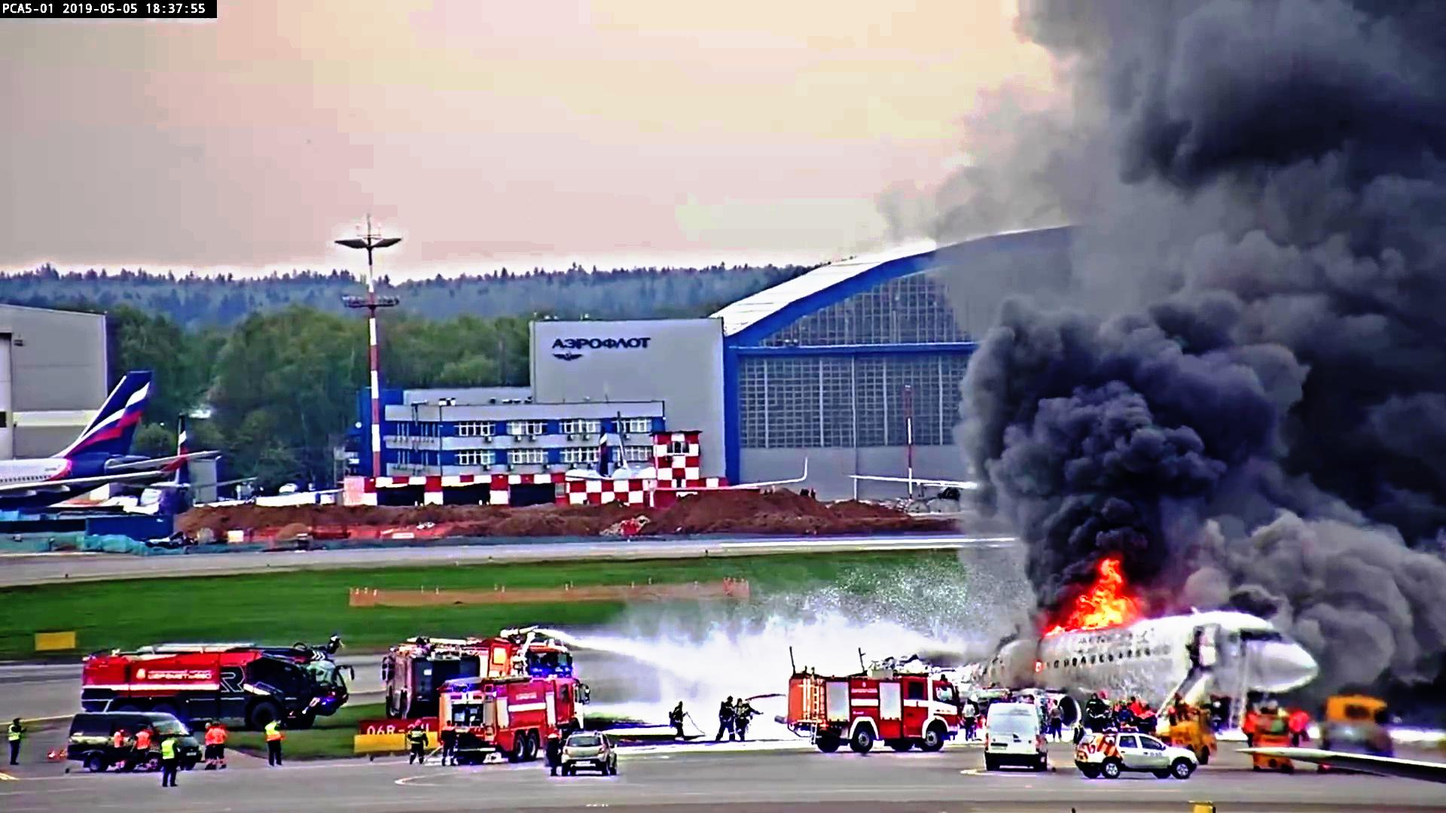fire: (1055, 567, 1144, 640)
smoke: (1119, 17, 1446, 327), (968, 305, 1194, 562), (1219, 510, 1446, 616)
